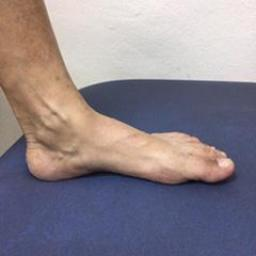Medial View -Left Foot-: (4, 97, 240, 204)
